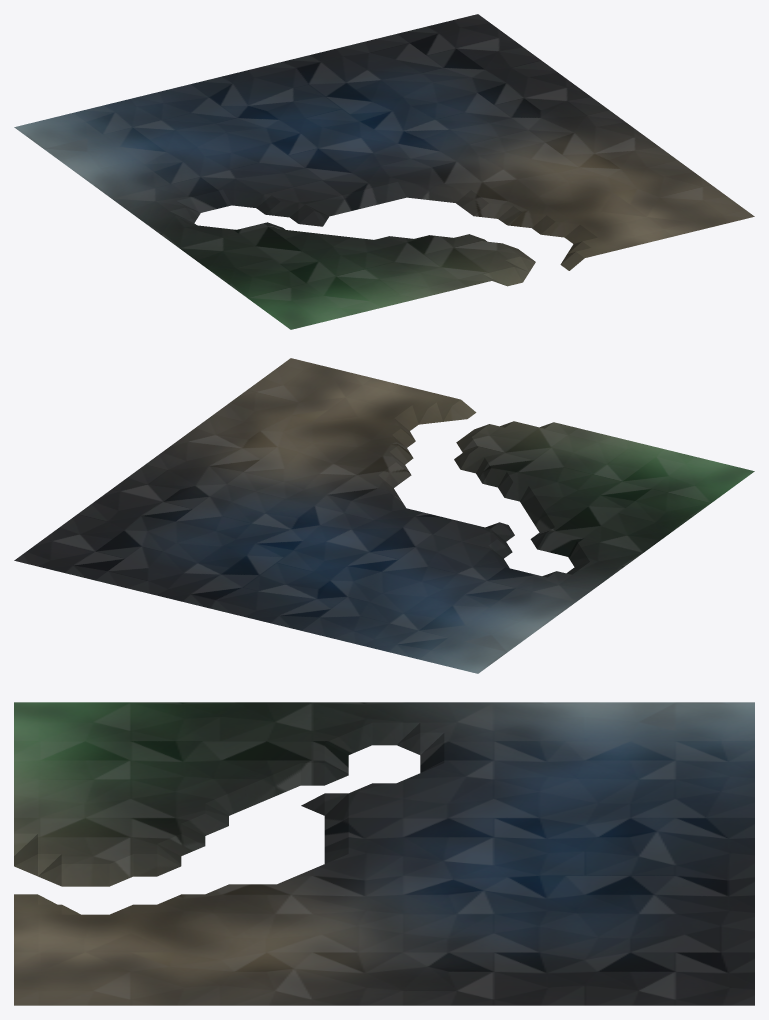
File: ground_2.fbx
The picture shows the model from 3 angles, top to bottom: view 1: azimuth 30°, elevation 25°; view 2: azimuth 150°, elevation 25°; view 3: azimuth 270°, elevation 25°; orthographic projection. The views are drawn at different scales.
Visible parts, largest first — view 1: ground.000; view 2: ground.000; view 3: ground.000.
Part boxes in pixels (x1=…): ground.000: x1=14, y1=14, x2=754, y2=329; ground.000: x1=14, y1=358, x2=754, y2=673; ground.000: x1=14, y1=702, x2=754, y2=1005.
Size of the model in its own units: 5902 by 113 by 6098.
